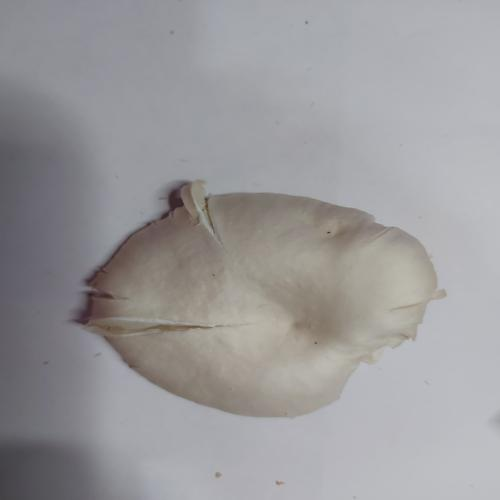Oyster Mushroom: (79, 179, 447, 419)
